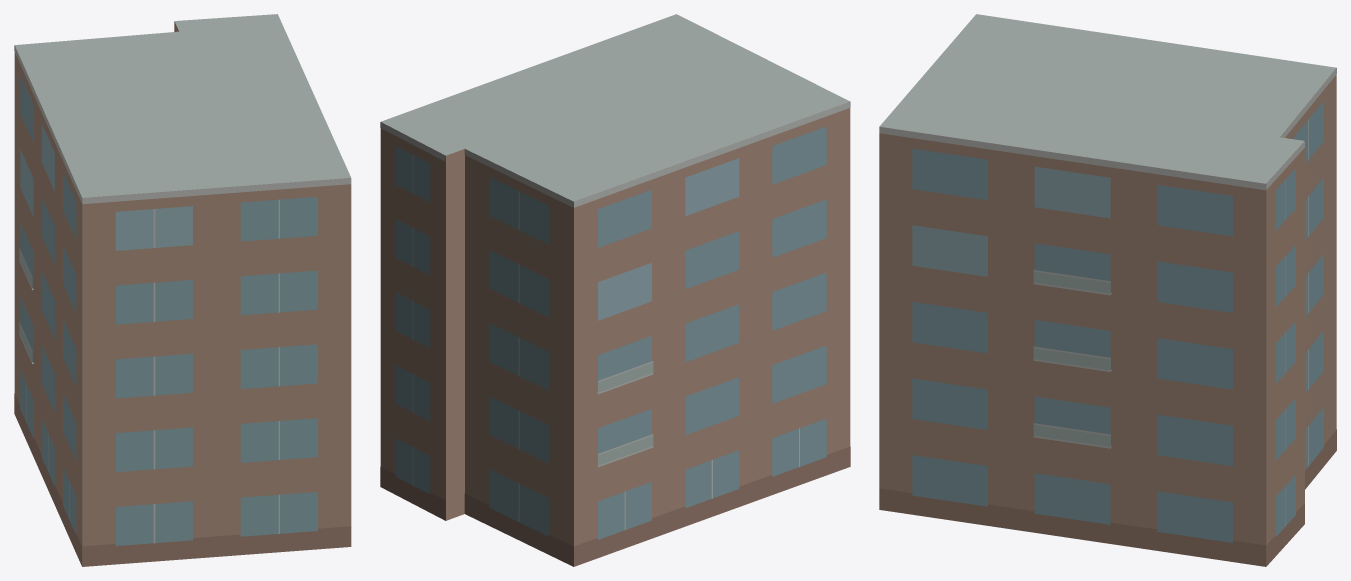
The model's file is survey-upis-32852655.glb.
The picture shows the model from 3 angles, left to right: view 1: azimuth 30°, elevation 25°; view 2: azimuth 150°, elevation 25°; view 3: azimuth 270°, elevation 25°; orthographic projection. The views are drawn at different scales.
Visible parts, largest first — view 1: survey-upis-32852655.tmp; view 2: survey-upis-32852655.tmp; view 3: survey-upis-32852655.tmp.
Part boxes in pixels (x1=…): survey-upis-32852655.tmp: x1=14, y1=14, x2=351, y2=566; survey-upis-32852655.tmp: x1=380, y1=14, x2=850, y2=566; survey-upis-32852655.tmp: x1=879, y1=14, x2=1336, y2=566.
Bounding box in the file's own units: 13.7 × 14.4 × 15.59.
